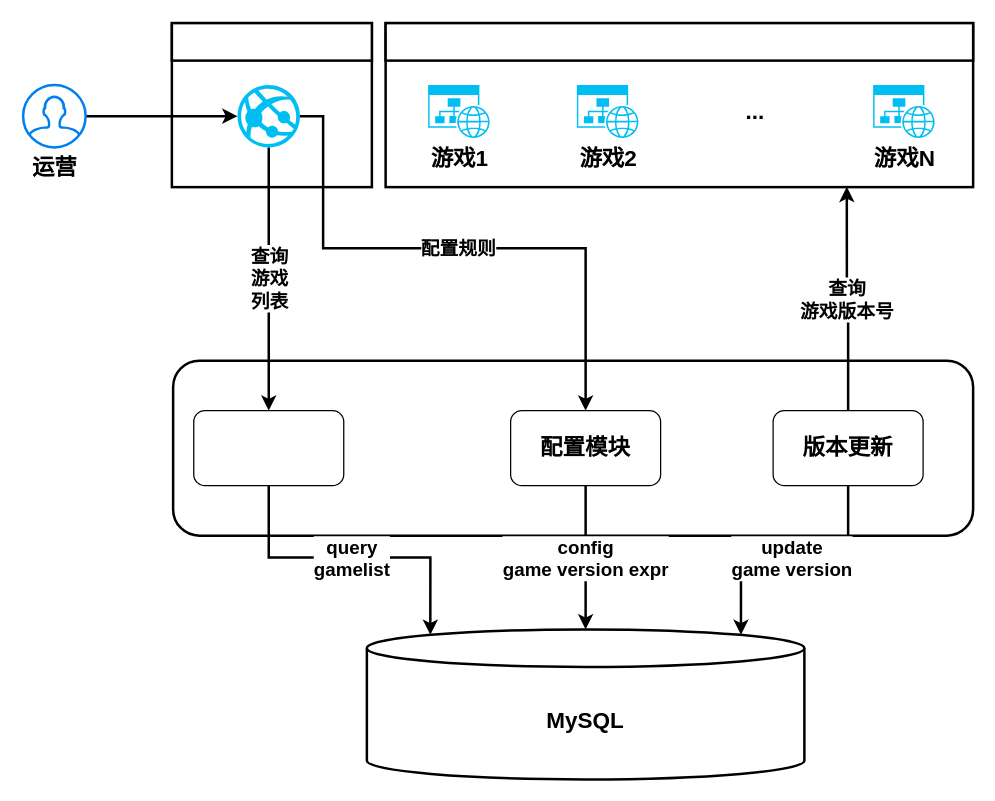
Some shapes in this 995 by 801 pixel diagram are drawn without their labels. Here are the shapes that lost their labels. From the top down, the centre of each, then its label:
At (271,41): "后台页面".
At (679,41): "游戏网站".
At (268,447): "查询模块".
